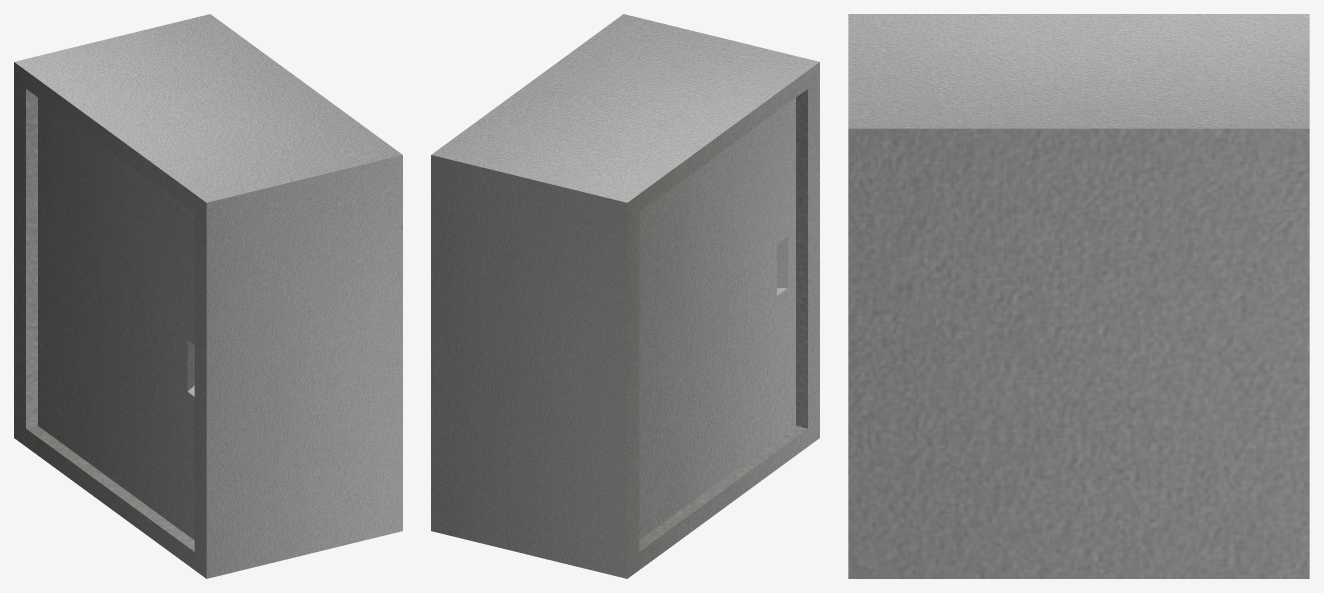
The model's file is LivingQuarters_Cabinet_Unwrapped.fbx.
The picture shows the model from 3 angles, left to right: view 1: azimuth 30°, elevation 25°; view 2: azimuth 150°, elevation 25°; view 3: azimuth 270°, elevation 25°; orthographic projection. The views are drawn at different scales.
Visible parts, largest first — view 1: Box020, Box021; view 2: Box020, Box021; view 3: Box020.
Part boxes in pixels (x1,y1,x2,y2): Box020: (14,14,402,578); Box021: (38,98,194,539); Box020: (431,14,819,578); Box021: (639,98,795,539); Box020: (848,14,1309,578).
Bounding box in the file's own units: 56.46 × 103 × 95.93.
